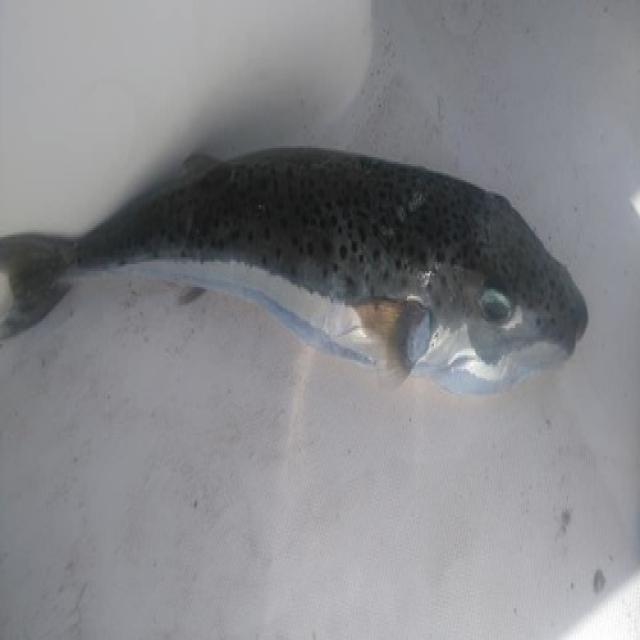Balik: (0, 149, 587, 394)
